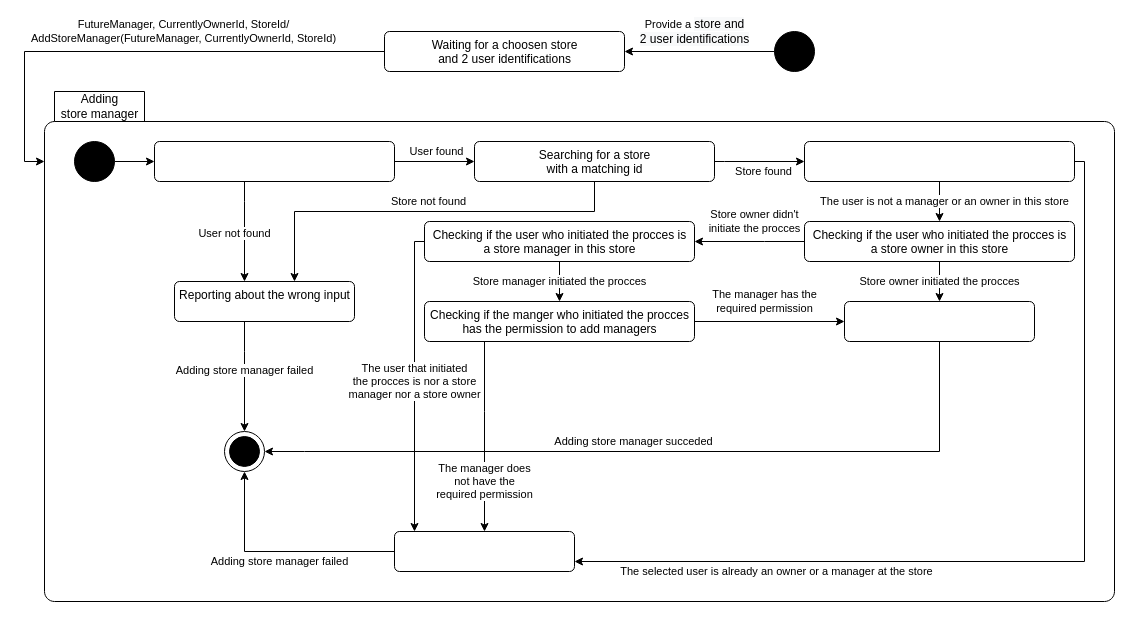
The diagram is 1132 pixels wide and 619 high, and some of its shapes have lost their labels. Each missing label, with the box of its shape:
Adding the chosen user to the store managers list: (844, 300, 1034, 342)
Checking if the user is already a store manager or a store owner in this store: (804, 140, 1074, 182)
Reporting about the illegal adding of a store manager: (394, 530, 574, 572)
Searching for a user with a matching email: (154, 140, 394, 182)
